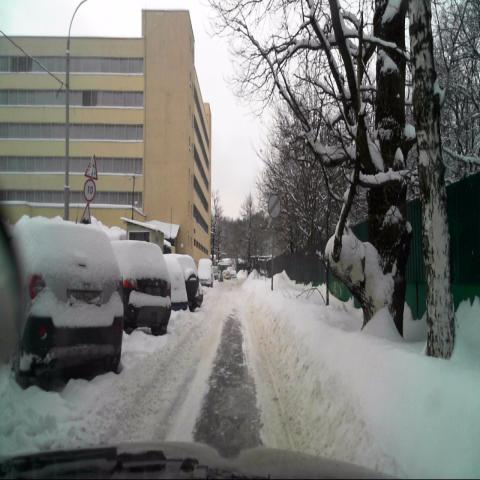1_16: (80, 203, 91, 225)
3_31: (267, 192, 282, 219)
